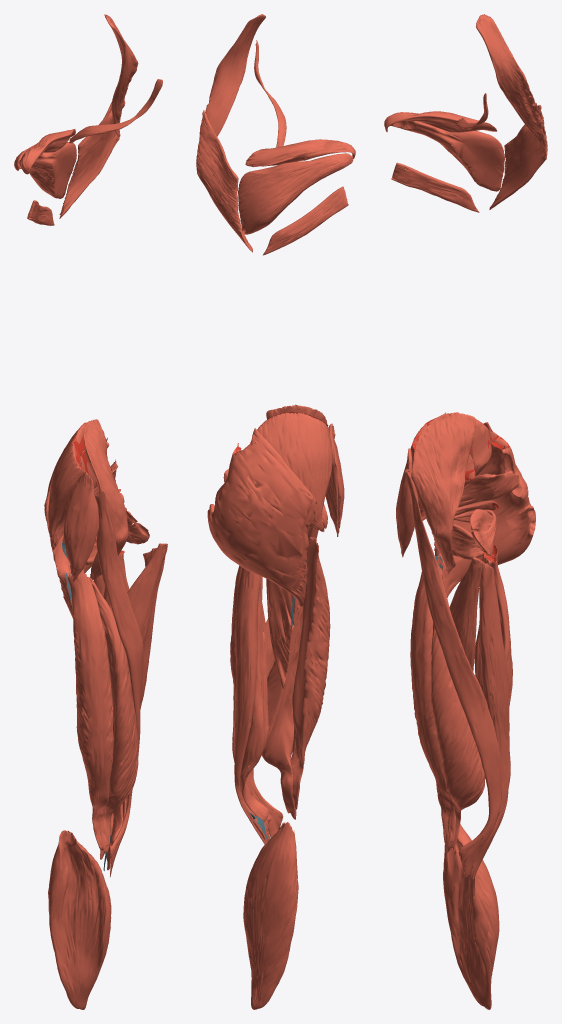
Rendered from atlas_supplement.glb.
3 renders of one model, left to right at view 1: azimuth 30°, elevation 25°; view 2: azimuth 150°, elevation 25°; view 3: azimuth 330°, elevation 25°, orthographic. The views are drawn at different scales.
Parts seen in each view (by area): view 1: muscle_soleus, muscle_vastus_intermedius, muscle_vastus_medialis, muscle_sartorius, muscle_tensor_fasciae_latae, muscle_iliacus, muscle_rhomboid_major, muscle_gluteus_medius, muscle_infraspinatus, muscle_adductor_longus, muscle_splenius_capitis, muscle_gluteus_maximus (+7 smaller); view 2: muscle_gluteus_maximus, muscle_soleus, muscle_vastus_intermedius, muscle_semitendinosus, muscle_infraspinatus, muscle_gluteus_medius, muscle_semimembranosus, muscle_vastus_medialis, muscle_rhomboid_major, muscle_splenius_capitis, muscle_adductor_longus, muscle_supraspinatus (+5 smaller); view 3: muscle_sartorius, muscle_soleus, muscle_iliacus, muscle_vastus_medialis, muscle_gracilis, muscle_gluteus_maximus, muscle_vastus_intermedius, muscle_infraspinatus, muscle_splenius_capitis, muscle_rhomboid_major, muscle_adductor_longus, muscle_teres_major (+7 smaller).
Boxes of the visible parts, left/top/right/bottom form: muscle_soleus: left=48, top=830, right=111, bottom=1009; muscle_vastus_intermedius: left=67, top=569, right=113, bottom=850; muscle_vastus_medialis: left=89, top=577, right=138, bottom=859; muscle_sartorius: left=94, top=486, right=143, bottom=876; muscle_tensor_fasciae_latae: left=63, top=470, right=99, bottom=582; muscle_iliacus: left=84, top=419, right=128, bottom=579; muscle_rhomboid_major: left=59, top=92, right=126, bottom=218; muscle_gluteus_medius: left=48, top=422, right=87, bottom=551; muscle_infraspinatus: left=14, top=142, right=76, bottom=198; muscle_adductor_longus: left=127, top=543, right=167, bottom=666; muscle_splenius_capitis: left=104, top=14, right=138, bottom=136; muscle_gluteus_maximus: left=44, top=437, right=130, bottom=618; muscle_gluteus_maximus: left=207, top=428, right=316, bottom=606; muscle_soleus: left=243, top=822, right=298, bottom=1009; muscle_vastus_intermedius: left=288, top=537, right=330, bottom=809; muscle_semitendinosus: left=234, top=567, right=269, bottom=844; muscle_infraspinatus: left=238, top=153, right=353, bottom=234; muscle_gluteus_medius: left=257, top=412, right=332, bottom=531; muscle_semimembranosus: left=230, top=565, right=268, bottom=821; muscle_vastus_medialis: left=261, top=594, right=302, bottom=819; muscle_rhomboid_major: left=196, top=110, right=252, bottom=252; muscle_splenius_capitis: left=205, top=14, right=265, bottom=136; muscle_adductor_longus: left=266, top=578, right=300, bottom=688; muscle_supraspinatus: left=245, top=139, right=355, bottom=167; muscle_sartorius: left=405, top=469, right=501, bottom=877; muscle_soleus: left=443, top=824, right=499, bottom=1009; muscle_iliacus: left=411, top=412, right=475, bottom=573; muscle_vastus_medialis: left=431, top=566, right=485, bottom=852; muscle_gracilis: left=471, top=559, right=510, bottom=879; muscle_gluteus_maximus: left=431, top=422, right=535, bottom=597; muscle_vastus_intermedius: left=410, top=572, right=455, bottom=844; muscle_infraspinatus: left=389, top=121, right=504, bottom=191; muscle_splenius_capitis: left=476, top=14, right=546, bottom=156; muscle_rhomboid_major: left=489, top=105, right=547, bottom=209; muscle_adductor_longus: left=445, top=556, right=482, bottom=671; muscle_teres_major: left=391, top=162, right=479, bottom=212.
Bounding box in the file's own units: 0.1966 × 1.44 × 0.1746.
